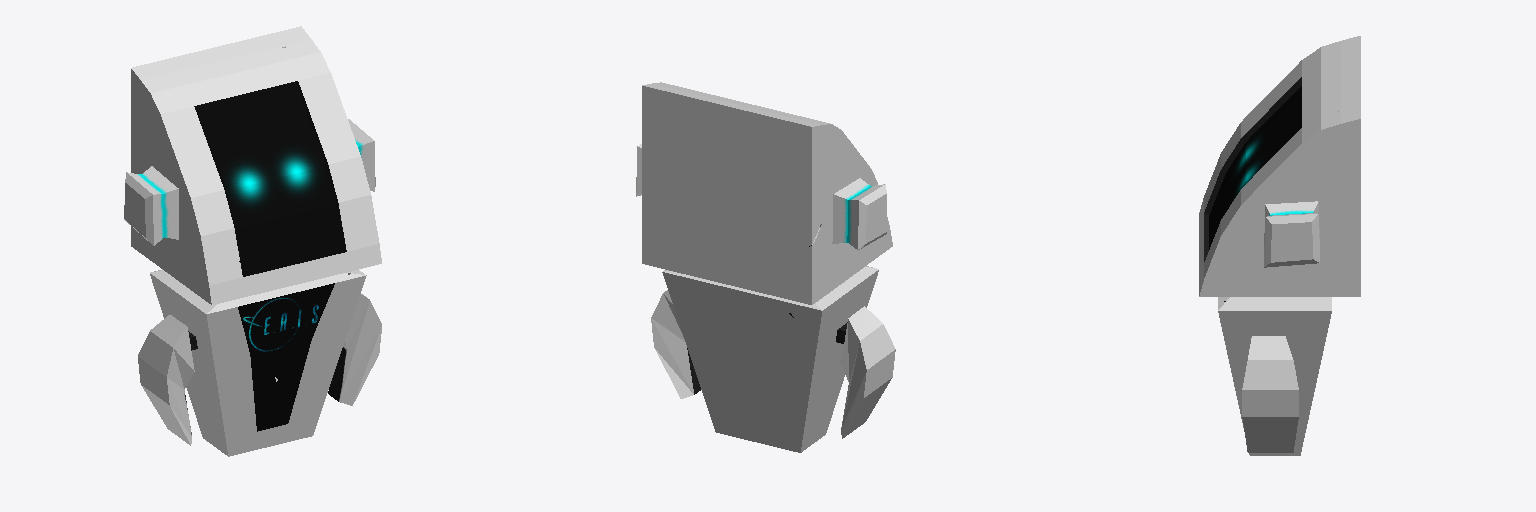
The picture shows the model from 3 angles: view 1: azimuth 30°, elevation 25°; view 2: azimuth 150°, elevation 25°; view 3: azimuth 270°, elevation 25°; orthographic projection.
Parts seen in each view (by area): view 1: Cube; view 2: Cube; view 3: Cube.
Part boxes in pixels (x1,y1,x2,y2): Cube: (124, 26, 381, 456); Cube: (636, 82, 895, 452); Cube: (1199, 36, 1360, 455).
Bounding box in the file's own units: 2.7 × 4.02 × 1.64.
Materials: 1 (1 with a texture image).